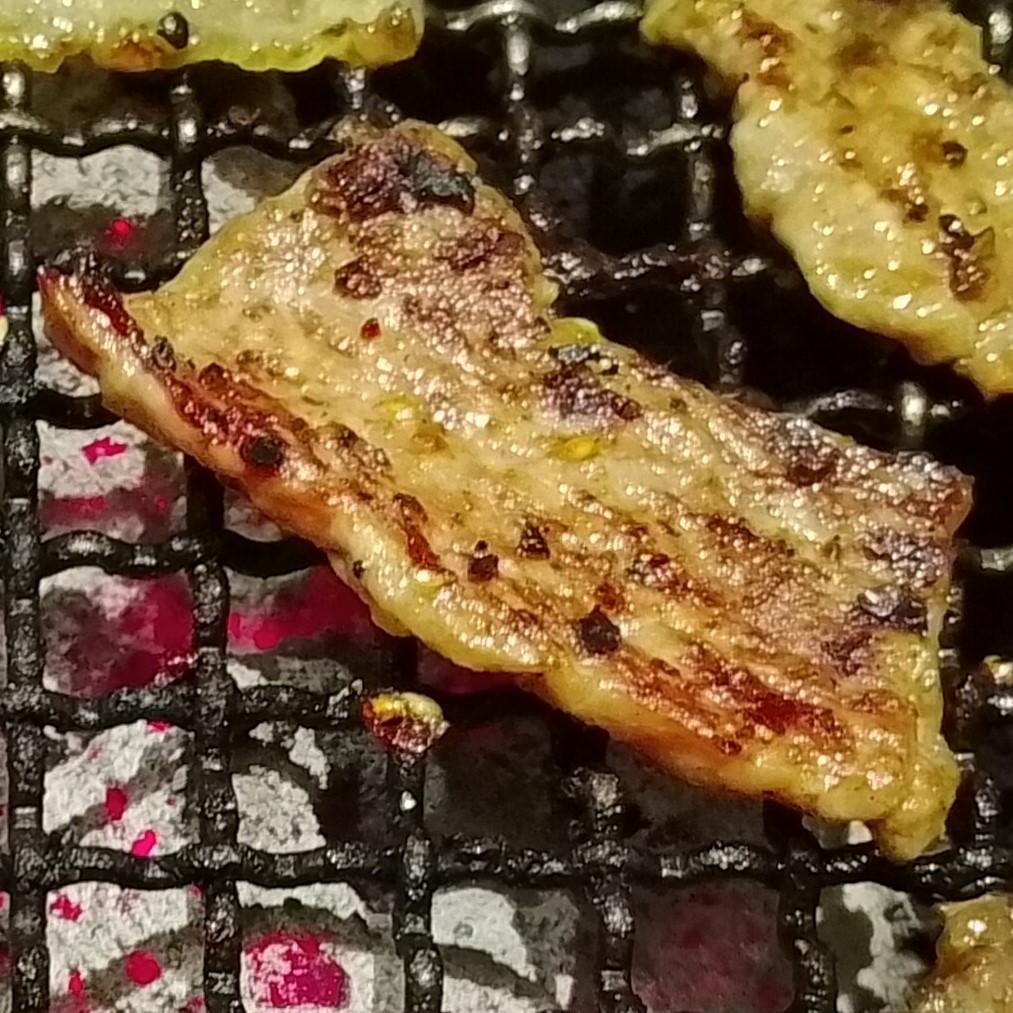Overcooked: (34, 119, 975, 869)
Well-Cooked: (638, 0, 1012, 405), (0, 0, 426, 74)
